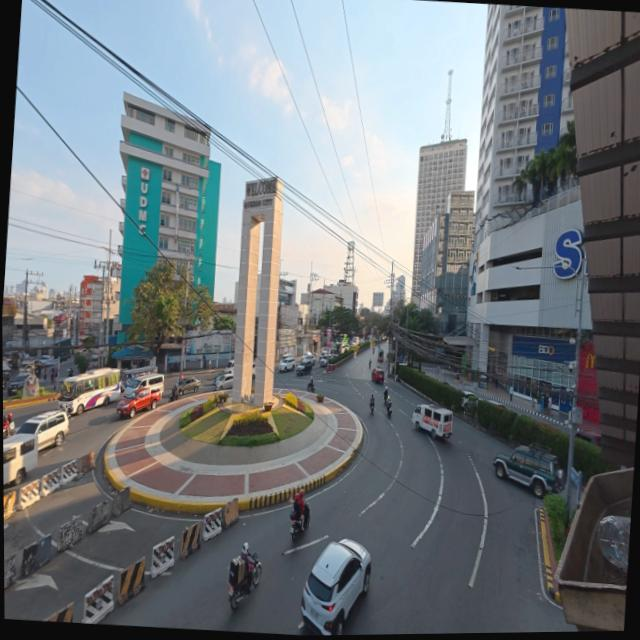Jeepneys: (122, 366, 158, 386), (378, 351, 384, 362)
bus: (59, 368, 122, 415)
car: (301, 539, 370, 634), (493, 444, 564, 497), (17, 410, 69, 450), (8, 373, 30, 396), (177, 377, 201, 395), (576, 430, 601, 446), (215, 373, 233, 391), (462, 390, 478, 408), (297, 359, 312, 376), (279, 357, 295, 372), (371, 367, 385, 383), (488, 400, 508, 410), (302, 352, 316, 365), (39, 355, 51, 365), (320, 356, 328, 367), (252, 361, 256, 378), (320, 351, 328, 359)
motorcycle: (229, 553, 262, 610), (291, 504, 310, 541), (169, 390, 180, 403), (3, 428, 15, 439), (386, 401, 392, 417), (307, 382, 315, 392), (370, 403, 374, 414), (384, 394, 388, 404), (369, 360, 371, 368)
trucks: (117, 388, 162, 417)
vans: (3, 434, 38, 486), (412, 405, 452, 437), (125, 375, 164, 397), (19, 363, 35, 374)
